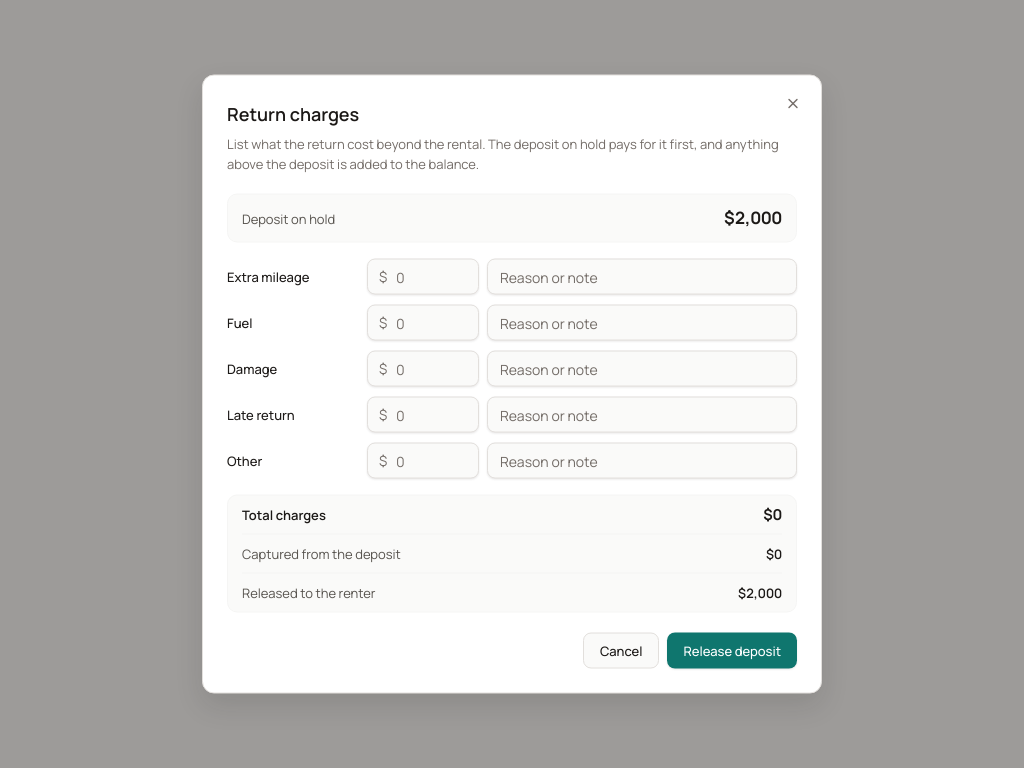
Scenario: ReturnChargesDialog › will not save an amount that is not one
Type "ten" into the field named "Other amount" at point(423, 460), box [367, 442, 479, 478]
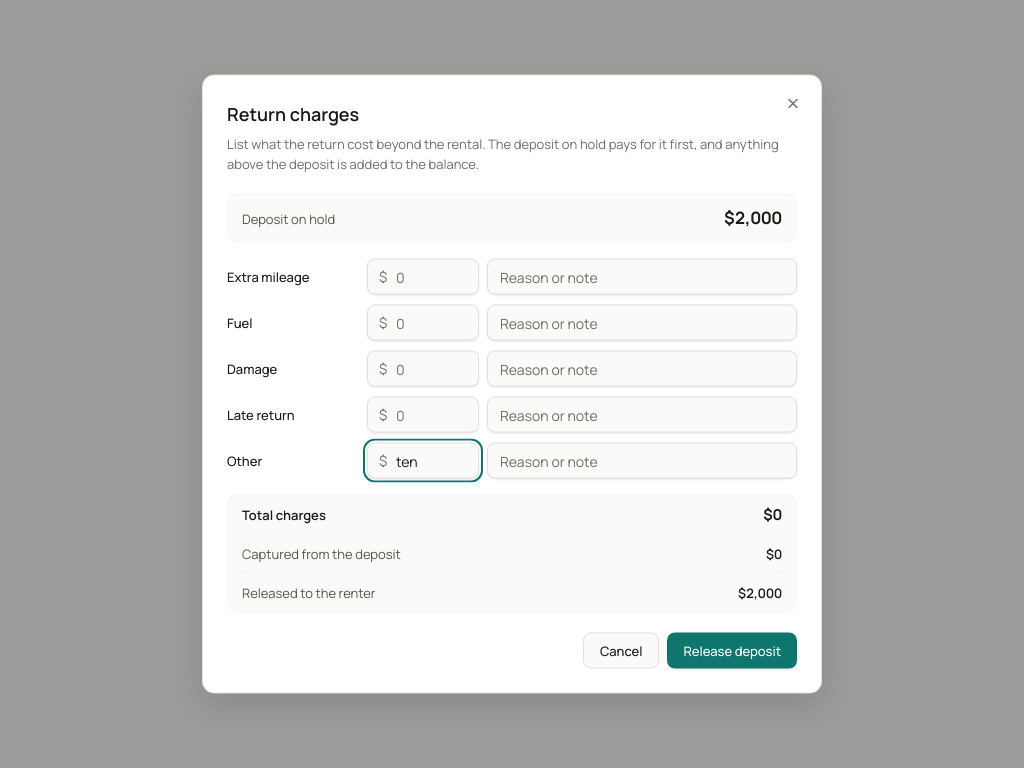
Click the button "Release deposit" at point(732, 650), box [667, 632, 797, 668]
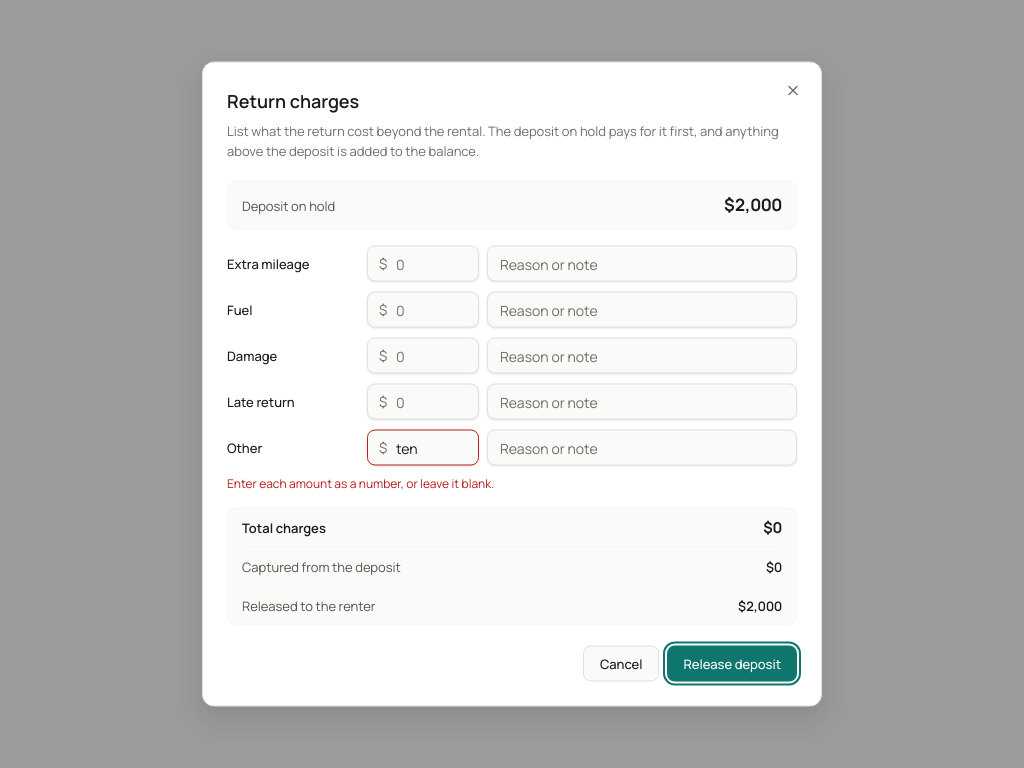
expect the message shows "Enter each amount as a number": met, box [227, 474, 494, 492]
